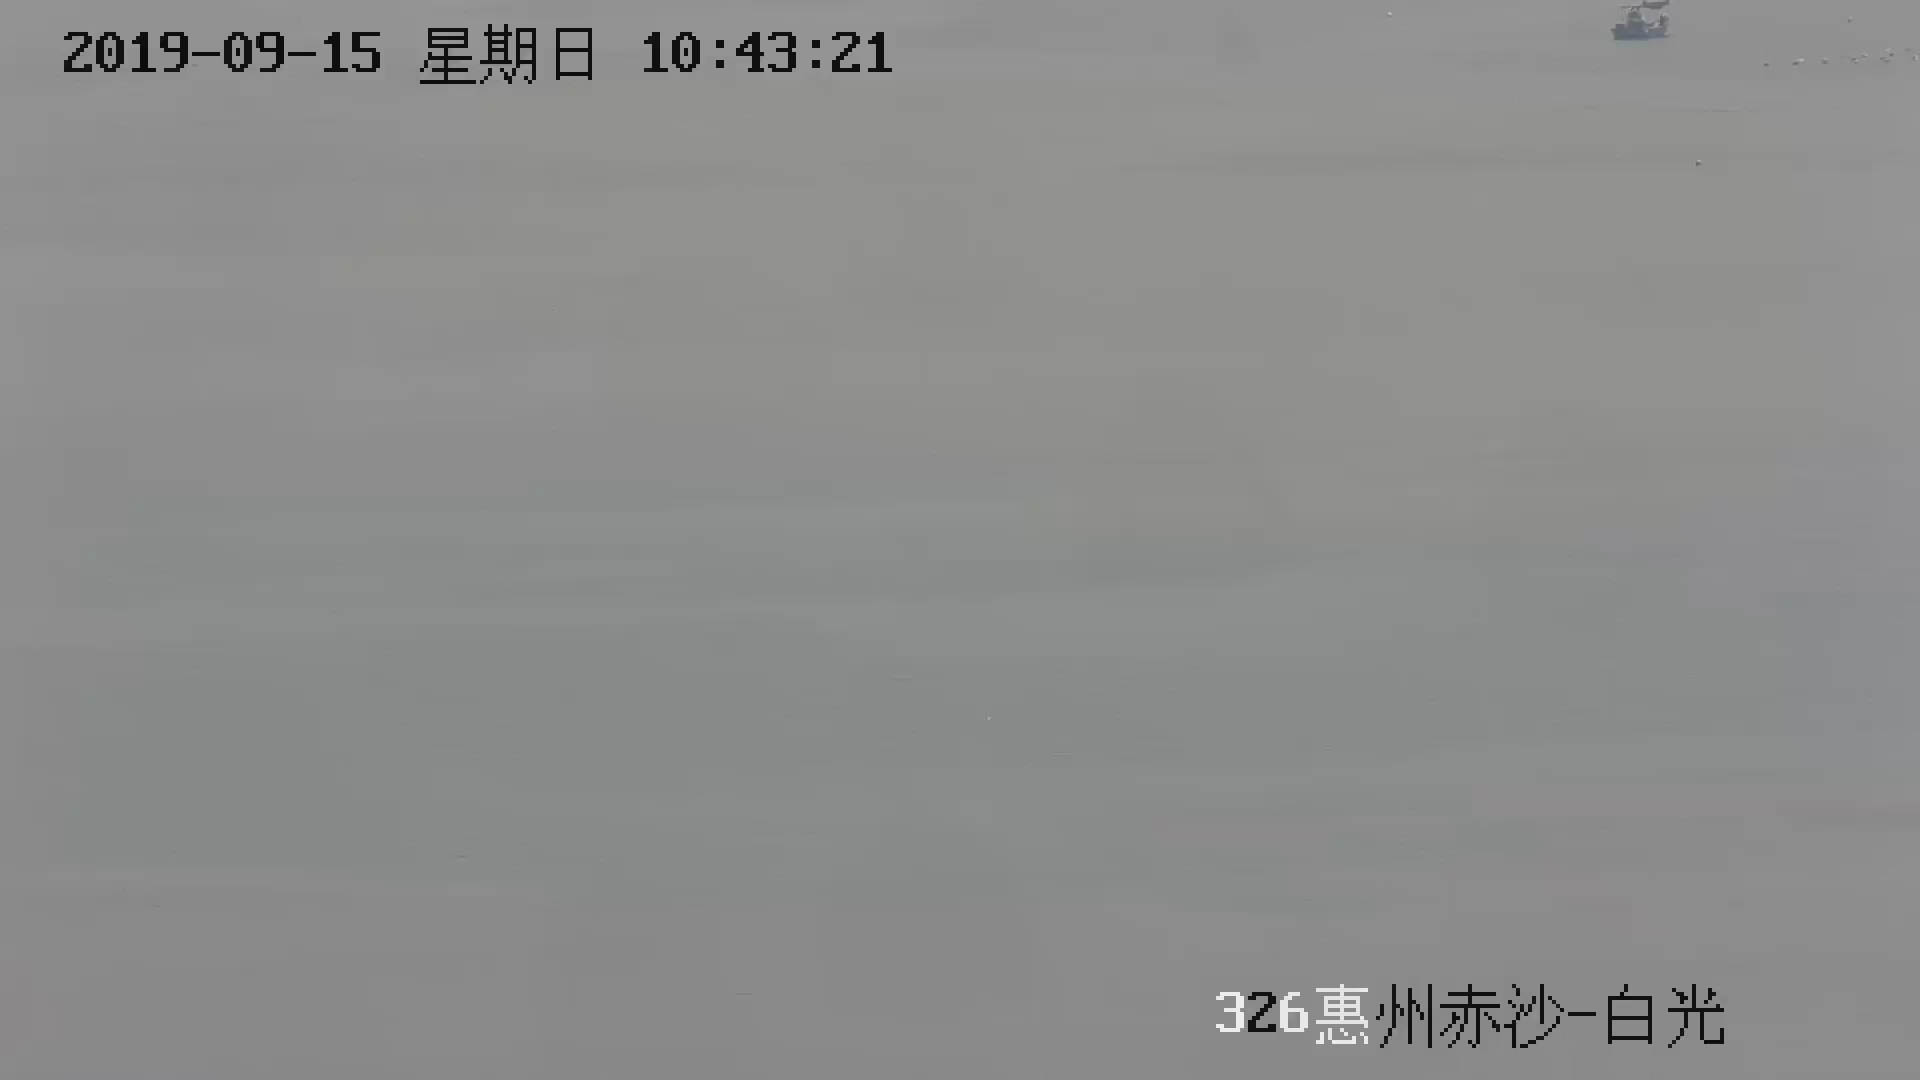ship: (1610, 3, 1671, 44)
